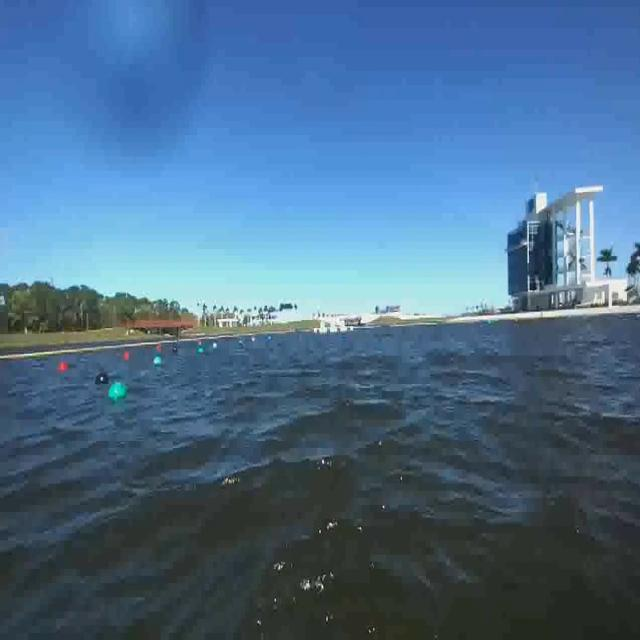black-buoy: (96, 372, 110, 387)
green-buoy: (111, 381, 129, 399), (154, 351, 162, 371)
red-buoy: (57, 358, 67, 376), (155, 342, 164, 351), (124, 350, 130, 362)
